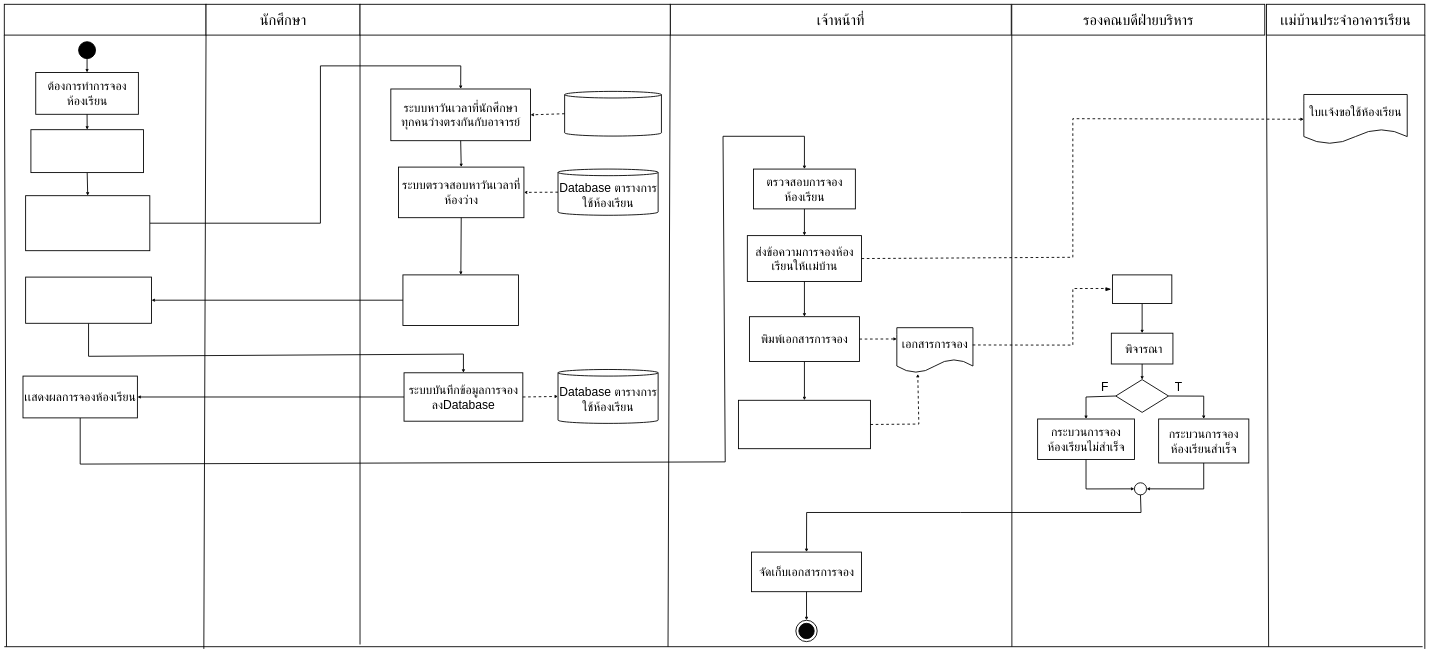
The diagram is 1429 pixels wide and 653 high, and some of its shapes have lost their labels. The shapes that lost their labels are listed below. From the top down, each one's centre as x and y in pixels, then its label:
At point 105,19: "อาจารย์".
At point 515,19: "System".
At point 613,113: "Database ตารางการเรียนการสอน".
At point 87,151: "เข้าสู่ระบบ".
At point 87,223: "เลือกวิชาที่จะทำ การจองห้องเรียน".
At point 88,300: "อาจารย์เลือกวันเวลา เเละห้องที่จะทำการจอง".
At point 460,300: "ระบบเเสดงวันเวลาที่ห้องว่างให้เลือกจอง".
At point 1142,289: "รับเอกสาร".
At point 1142,396: "อนุมัติ".
At point 804,424: "นำเอกสารการจองเสนอให้ ผู้บริหารอนุมัติ".
